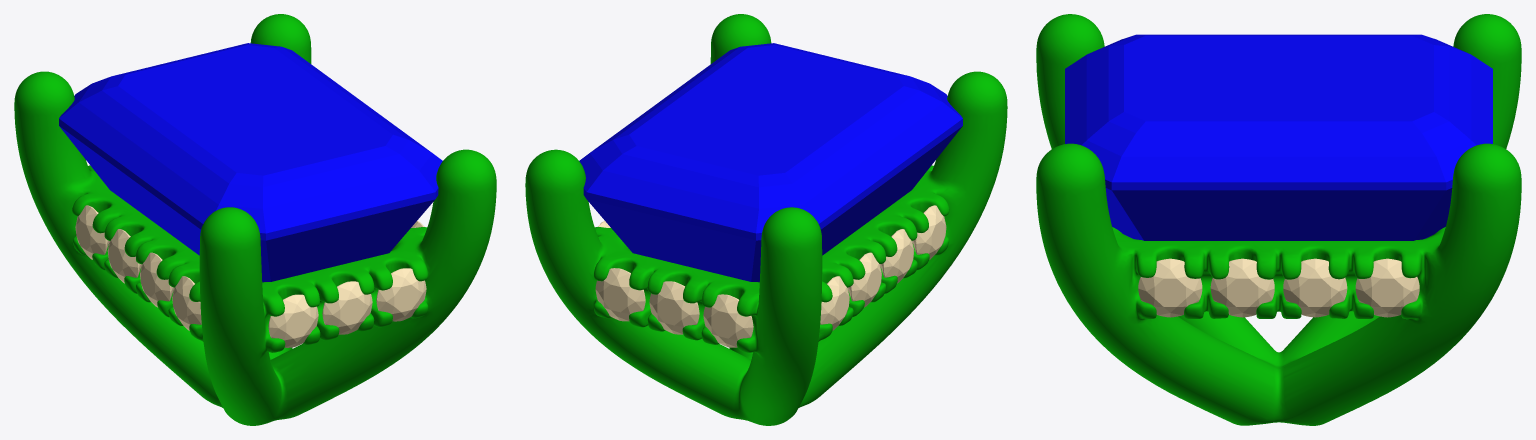
3 views of the same model, side by side, from view 1: azimuth 30°, elevation 25°; view 2: azimuth 150°, elevation 25°; view 3: azimuth 270°, elevation 25° (orthographic). The views are drawn at different scales.
Visible parts, largest first — view 1: Metal01, Diamond_Emerald, Diamond_Round.004, Diamond_Round.005, Diamond_Round.006, Diamond_Round.003, Diamond_Round, Diamond_Round.002, Diamond_Round.001; view 2: Metal01, Diamond_Emerald, Diamond_Round.008, Diamond_Round.007, Diamond_Round.009, Diamond_Round.001, Diamond_Round.002, Diamond_Round, Diamond_Round.003; view 3: Diamond_Emerald, Metal01, Diamond_Round.010, Diamond_Round.013, Diamond_Round.012, Diamond_Round.011.
Part boxes in pixels (x1,y1,x2,y2): Metal01: (14,14,496,425); Diamond_Emerald: (59,43,442,282); Diamond_Round.004: (268,294,318,347); Diamond_Round.005: (322,281,372,334); Diamond_Round.006: (376,268,426,321); Diamond_Round.003: (75,205,109,259); Diamond_Round: (140,252,173,307); Diamond_Round.002: (107,229,141,283); Diamond_Round.001: (172,276,201,330); Metal01: (525,14,1007,425); Diamond_Emerald: (579,43,962,282); Diamond_Round.008: (595,268,645,321); Diamond_Round.007: (703,294,753,347); Diamond_Round.009: (649,281,699,334); Diamond_Round.001: (912,205,946,259); Diamond_Round.002: (848,252,881,307); Diamond_Round: (880,229,914,283); Diamond_Round.003: (820,276,849,330); Diamond_Emerald: (1065,34,1492,240); Metal01: (1036,14,1521,425); Diamond_Round.010: (1138,258,1202,317); Diamond_Round.013: (1355,258,1419,317); Diamond_Round.012: (1283,258,1347,317); Diamond_Round.011: (1210,258,1274,317).
Size of the model in its own units: 5.85 by 5.74 by 7.57.
